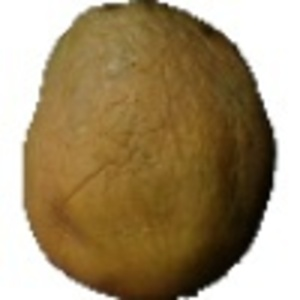mamão: (14, 3, 283, 296)
